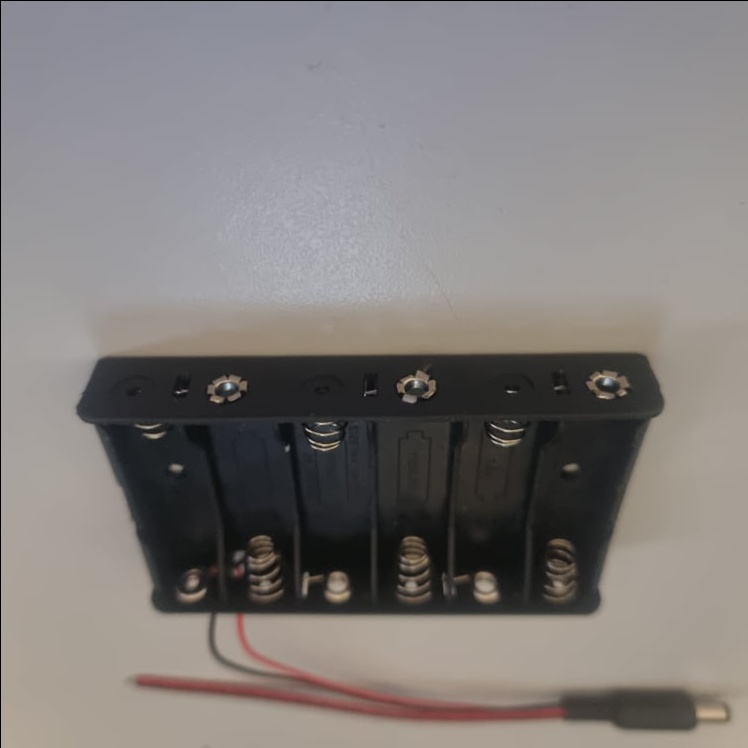BATTERY BOX: (73, 352, 663, 618)
